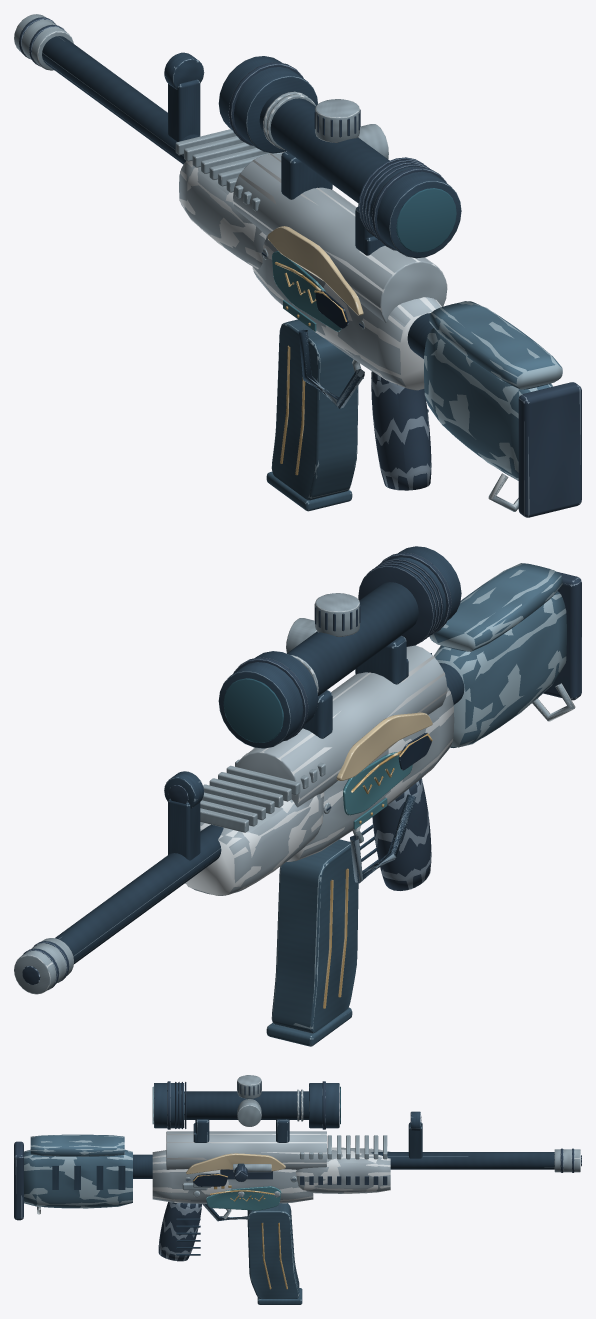
The model's file is anime-awp.glb.
The picture shows the model from 3 angles, top to bottom: view 1: azimuth 30°, elevation 25°; view 2: azimuth 150°, elevation 25°; view 3: azimuth 270°, elevation 25°; orthographic projection. The views are drawn at different scales.
Parts seen in each view (by area): view 1: weapon_Parkerized steel, weapon_Weapon finish / Olive rifle finish, weapon_Polymer, magazine_Magazine satin alloy, weapon_Weapon finish / Polymer, World paint, weapon_Machined edges, World hardware, weapon_Coated scope glass, weapon_Weapon finish / Ivory enamel, weapon_Inset blue ceramic, magazine_Etched brass detail (+1 smaller); view 2: weapon_Parkerized steel, weapon_Weapon finish / Olive rifle finish, magazine_Magazine satin alloy, weapon_Weapon finish / Polymer, weapon_Polymer, World paint, weapon_Machined edges, World hardware, weapon_Coated scope glass, weapon_Weapon finish / Ivory enamel, weapon_Inset blue ceramic, magazine_Etched brass detail (+1 smaller); view 3: weapon_Parkerized steel, weapon_Weapon finish / Olive rifle finish, weapon_Weapon finish / Polymer, World paint, magazine_Magazine satin alloy, weapon_Polymer, weapon_Machined edges, World hardware, weapon_Inset blue ceramic, weapon_Weapon finish / Ivory enamel, weapon_Recessed graphite mechanism, magazine_Etched brass detail.
Part boxes in pixels (left/top/right/bottom): weapon_Parkerized steel: left=42, top=36, right=461, bottom=412; weapon_Weapon finish / Olive rifle finish: left=179, top=153, right=447, bottom=390; weapon_Polymer: left=19, top=17, right=581, bottom=517; magazine_Magazine satin alloy: left=266, top=319, right=358, bottom=511; weapon_Weapon finish / Polymer: left=424, top=301, right=562, bottom=480; World paint: left=179, top=153, right=562, bottom=480; weapon_Machined edges: left=14, top=14, right=518, bottom=511; World hardware: left=14, top=14, right=580, bottom=517; weapon_Coated scope glass: left=396, top=188, right=456, bottom=252; weapon_Weapon finish / Ivory enamel: left=267, top=226, right=363, bottom=315; weapon_Inset blue ceramic: left=272, top=251, right=341, bottom=331; magazine_Etched brass detail: left=280, top=345, right=305, bottom=475; weapon_Parkerized steel: left=55, top=546, right=464, bottom=963; weapon_Weapon finish / Olive rifle finish: left=185, top=645, right=454, bottom=895; magazine_Magazine satin alloy: left=266, top=839, right=358, bottom=1046; weapon_Weapon finish / Polymer: left=429, top=563, right=566, bottom=747; weapon_Polymer: left=22, top=552, right=581, bottom=989; World paint: left=186, top=563, right=566, bottom=895; weapon_Machined edges: left=14, top=593, right=574, bottom=994; World hardware: left=14, top=546, right=581, bottom=1046; weapon_Coated scope glass: left=223, top=678, right=283, bottom=742; weapon_Weapon finish / Ivory enamel: left=336, top=712, right=432, bottom=780; weapon_Inset blue ceramic: left=343, top=752, right=412, bottom=829; magazine_Etched brass detail: left=323, top=868, right=348, bottom=1008; weapon_Parkerized steel: left=52, top=1083, right=554, bottom=1255; weapon_Weapon finish / Olive rifle finish: left=152, top=1131, right=390, bottom=1203; weapon_Weapon finish / Polymer: left=24, top=1134, right=132, bottom=1208; World paint: left=24, top=1131, right=390, bottom=1208; magazine_Magazine satin alloy: left=247, top=1203, right=302, bottom=1304; weapon_Polymer: left=14, top=1081, right=581, bottom=1261; weapon_Machined edges: left=37, top=1075, right=580, bottom=1210; World hardware: left=14, top=1075, right=581, bottom=1304; weapon_Inset blue ceramic: left=206, top=1186, right=281, bottom=1210; weapon_Weapon finish / Ivory enamel: left=186, top=1153, right=285, bottom=1174; weapon_Recessed graphite mechanism: left=193, top=1173, right=227, bottom=1186; magazine_Etched brass detail: left=261, top=1223, right=287, bottom=1289.
Bounding box in the file's own units: 0.1331 × 0.437 × 1.03.
Materials: 13 (10 with a texture image).
